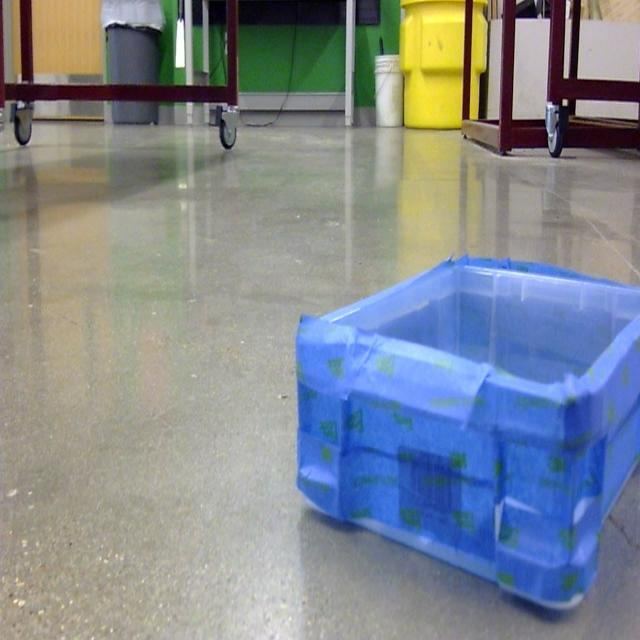bucket: (294, 258, 640, 616)
